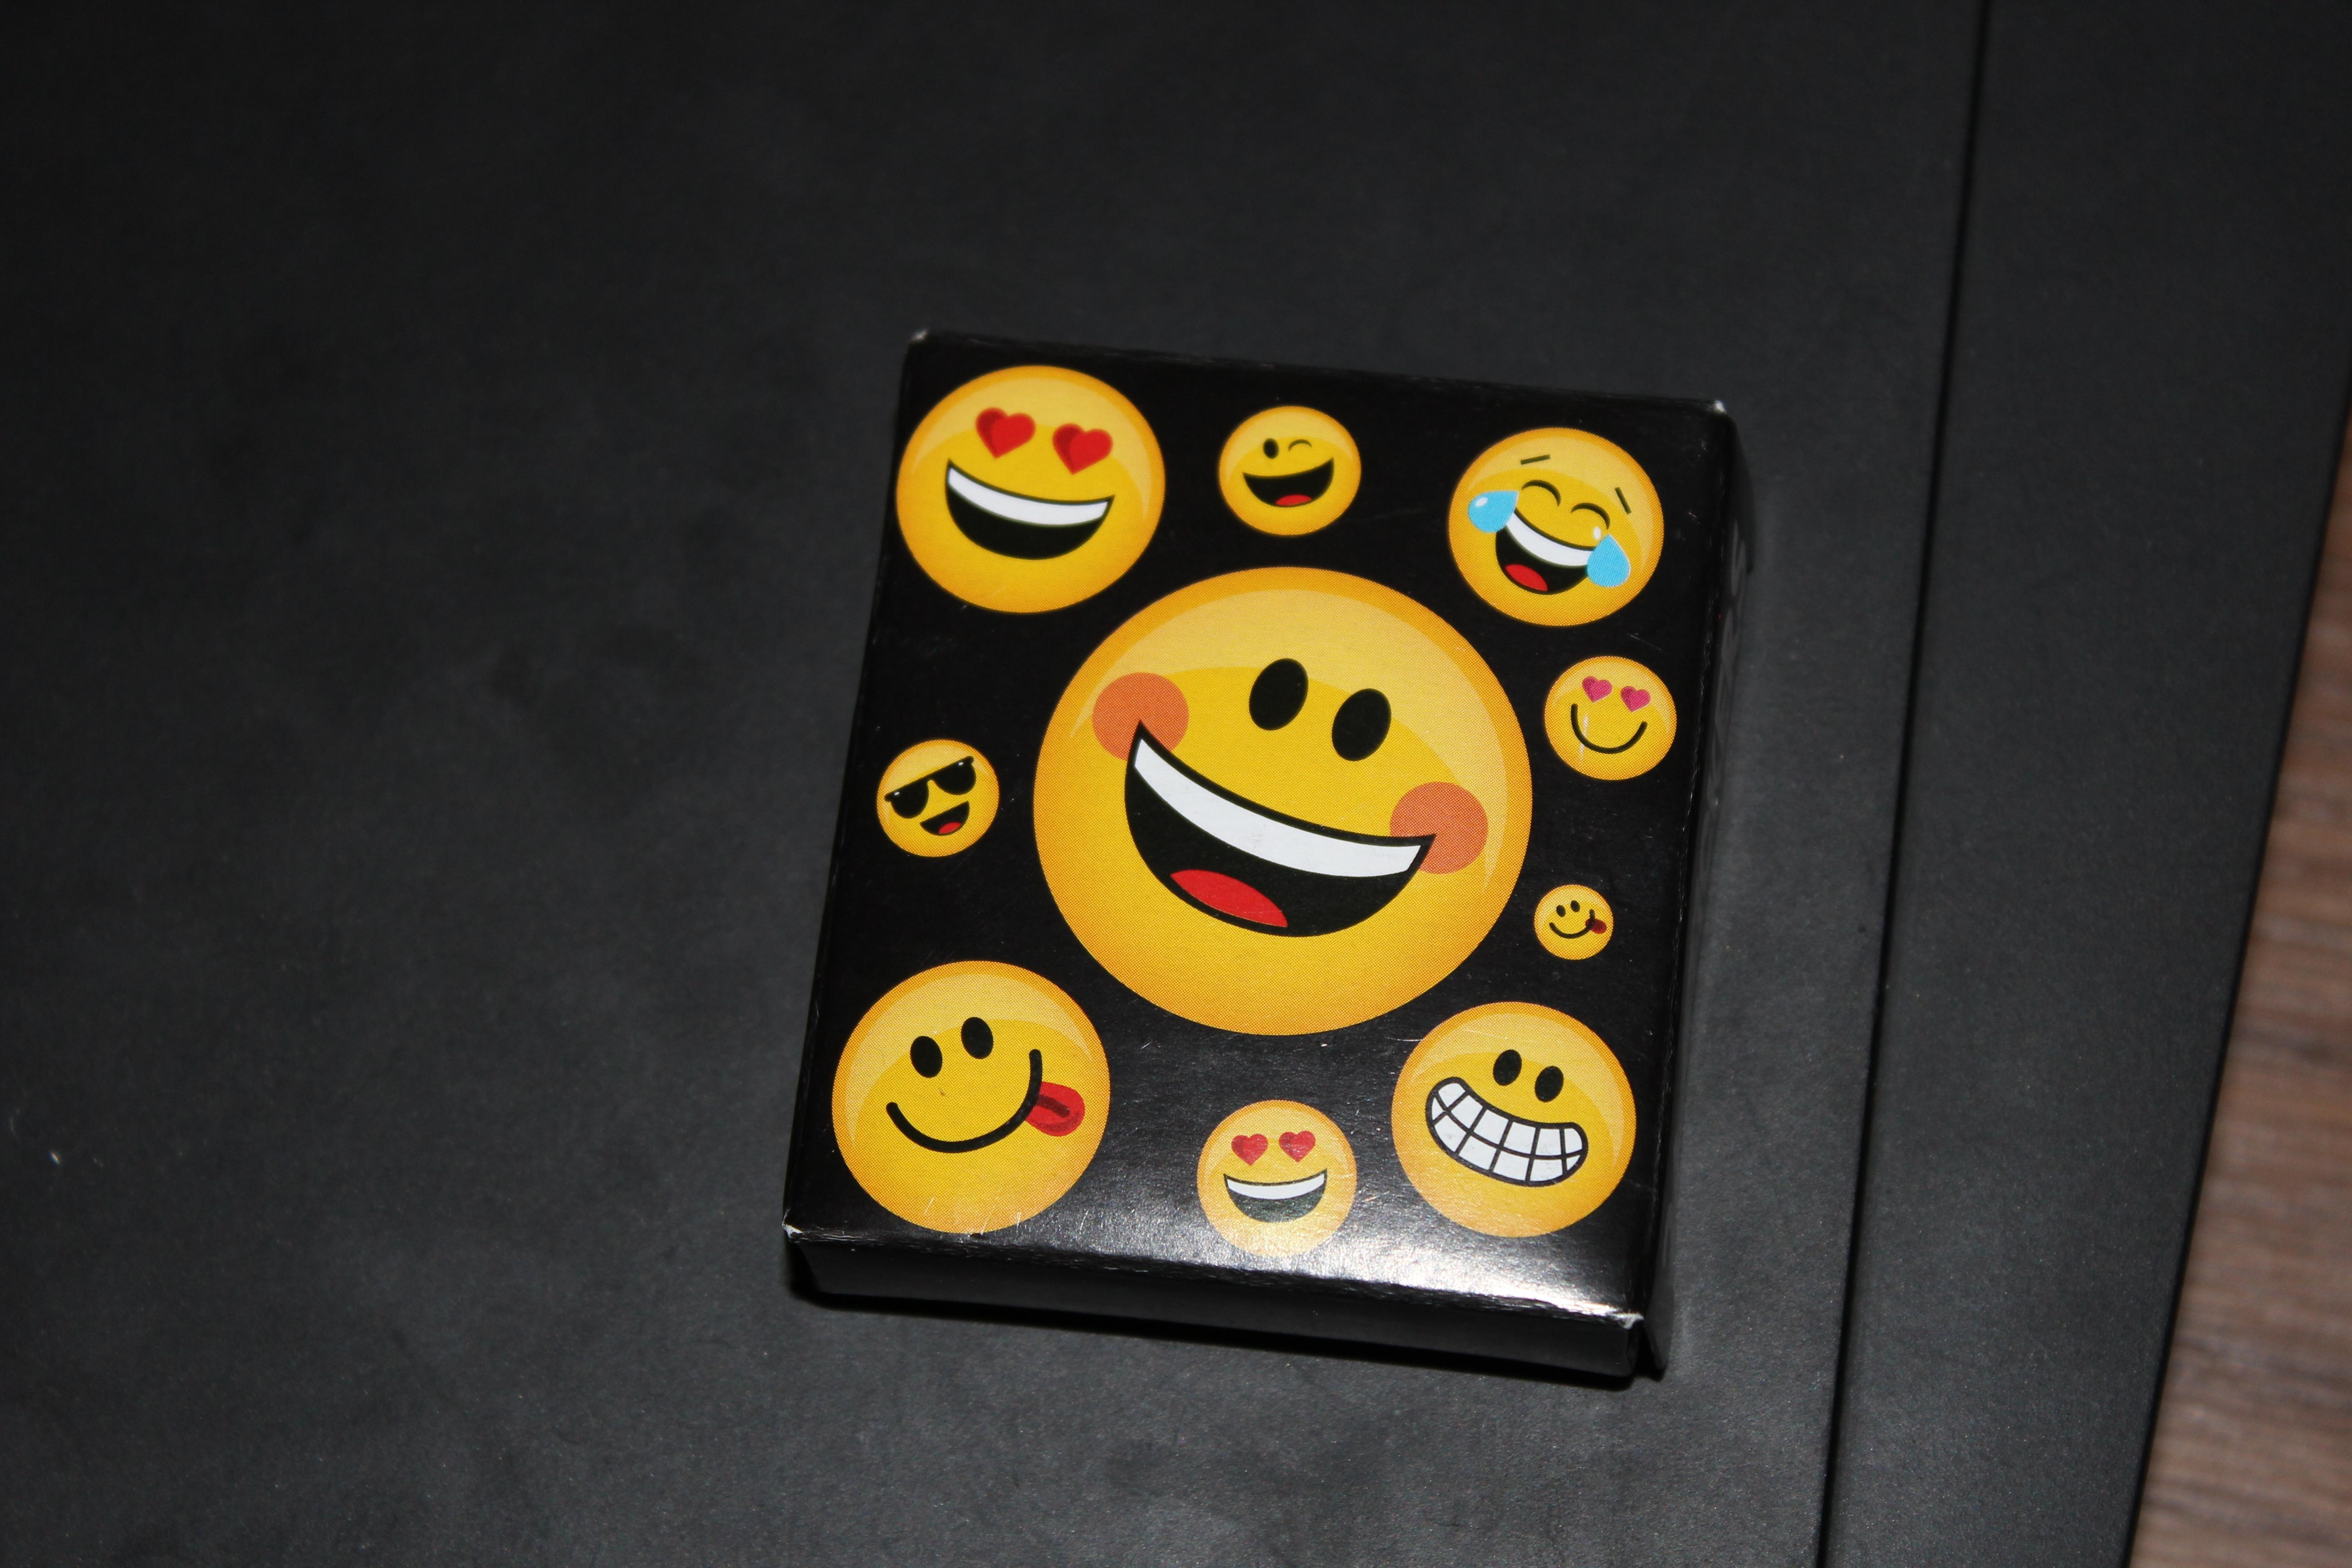stickerBox: (724, 278, 1785, 1449)
